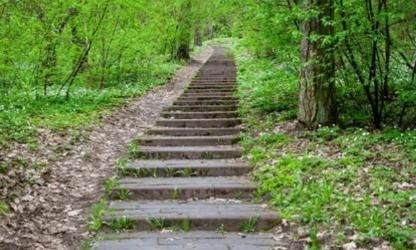stair: (150, 105, 243, 250)
